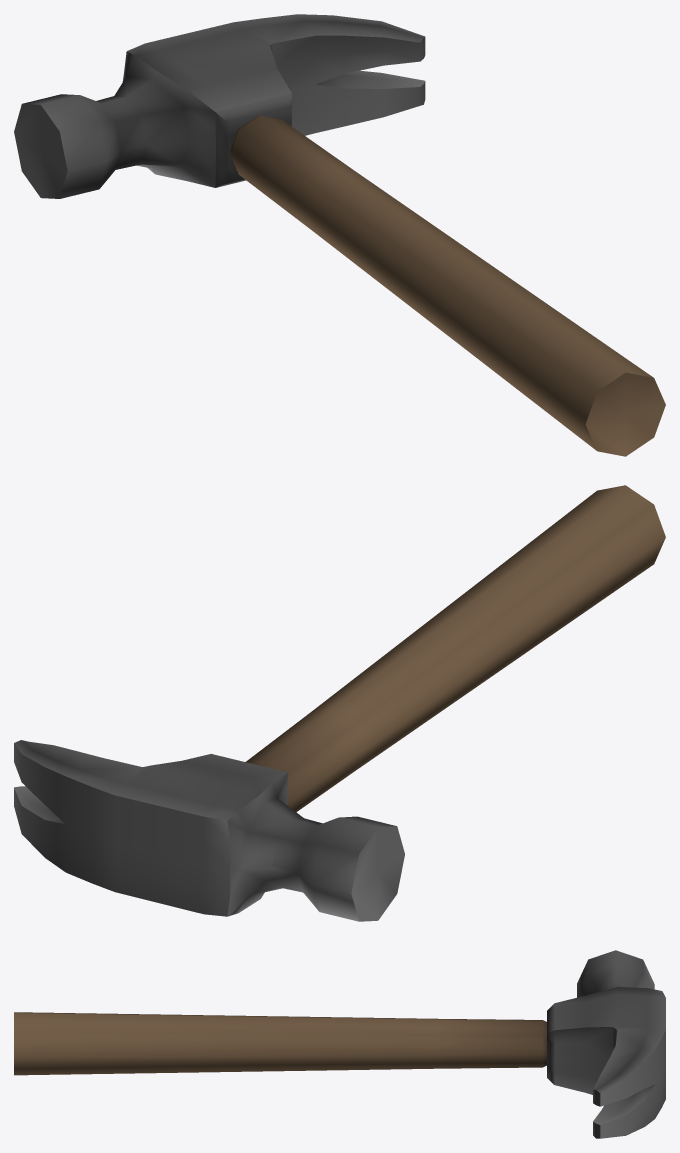
Rendered from human-tools-hammer_v1.glb.
The picture shows the model from 3 angles, top to bottom: view 1: azimuth 30°, elevation 25°; view 2: azimuth 150°, elevation 25°; view 3: azimuth 270°, elevation 25°; orthographic projection. The views are drawn at different scales.
Visible parts, largest first — view 1: Hammer.001; view 2: Hammer.001; view 3: Hammer.001.
Boxes of the visible parts, <box> form: Hammer.001: <box>14,14,665,456</box>; Hammer.001: <box>14,485,665,921</box>; Hammer.001: <box>14,950,665,1138</box>.
Size of the model in its own units: 0.1581 by 0.0429 by 0.33.
